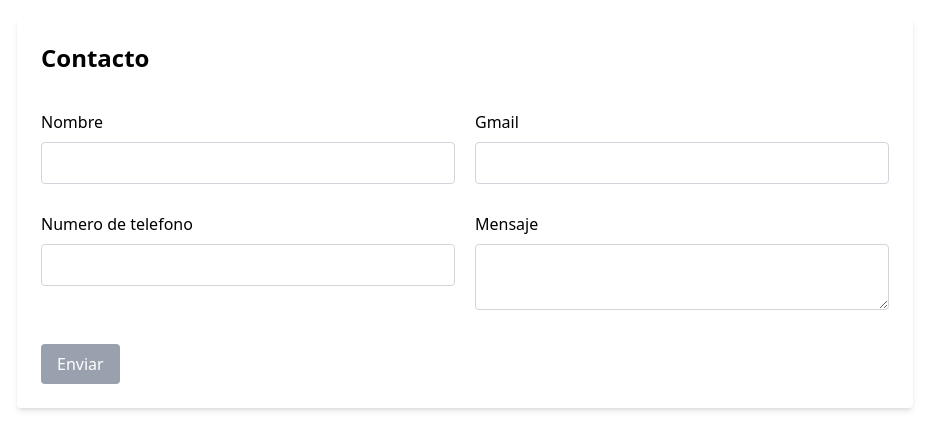
Scenario: ContactUs Form Validation and Submission › Mostrar error si el email tiene formato inválido
Type "invalid-email" into the field labelled "Gmail" at point(682, 163), box x1=475 y1=142 x2=889 y2=184
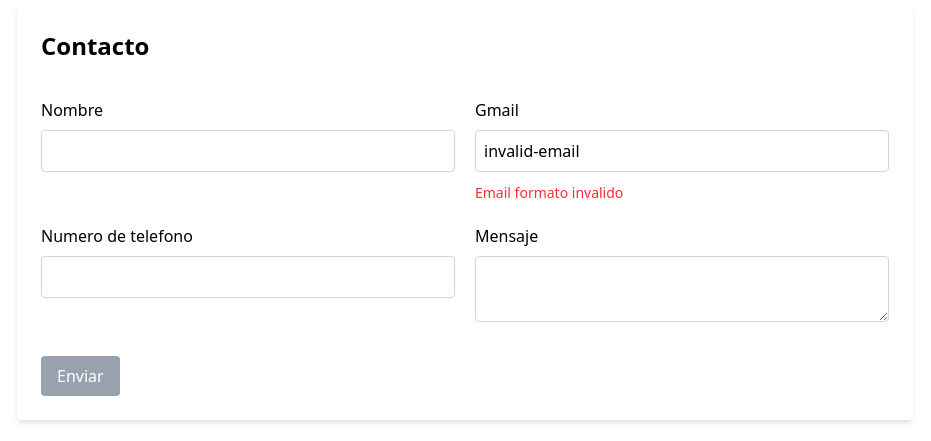
Expected: the button "Enviar" is disabled, x1=41 y1=356 x2=120 y2=396
Expected: the text "Email formato invalido" is shown, x1=475 y1=183 x2=623 y2=202
